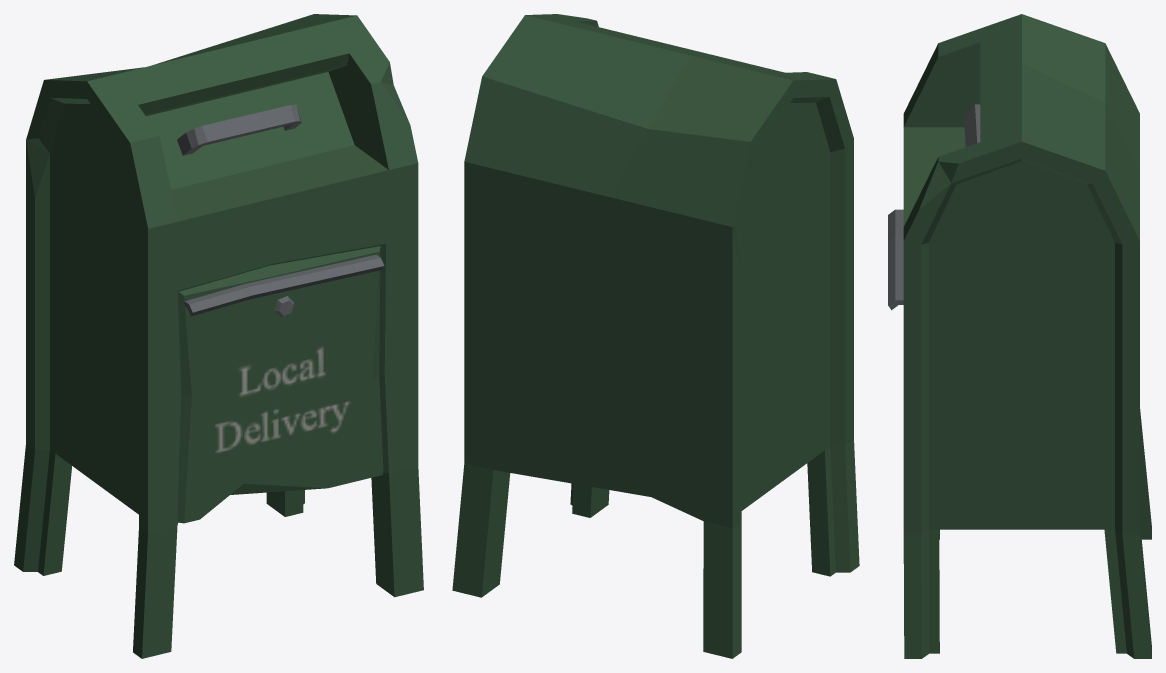
Rendered from Mailbox_01.fbx.
3 renders of one model, left to right at view 1: azimuth 30°, elevation 25°; view 2: azimuth 150°, elevation 25°; view 3: azimuth 270°, elevation 25°, orthographic. The views are drawn at different scales.
Parts seen in each view (by area): view 1: Mailbox_01; view 2: Mailbox_01; view 3: Mailbox_01.
Part boxes in pixels (<box>): Mailbox_01: <box>14,14,423,658</box>; Mailbox_01: <box>452,14,859,658</box>; Mailbox_01: <box>888,14,1151,658</box>.
Size of the model in its own units: 0.5728 by 1.03 by 0.4794.
